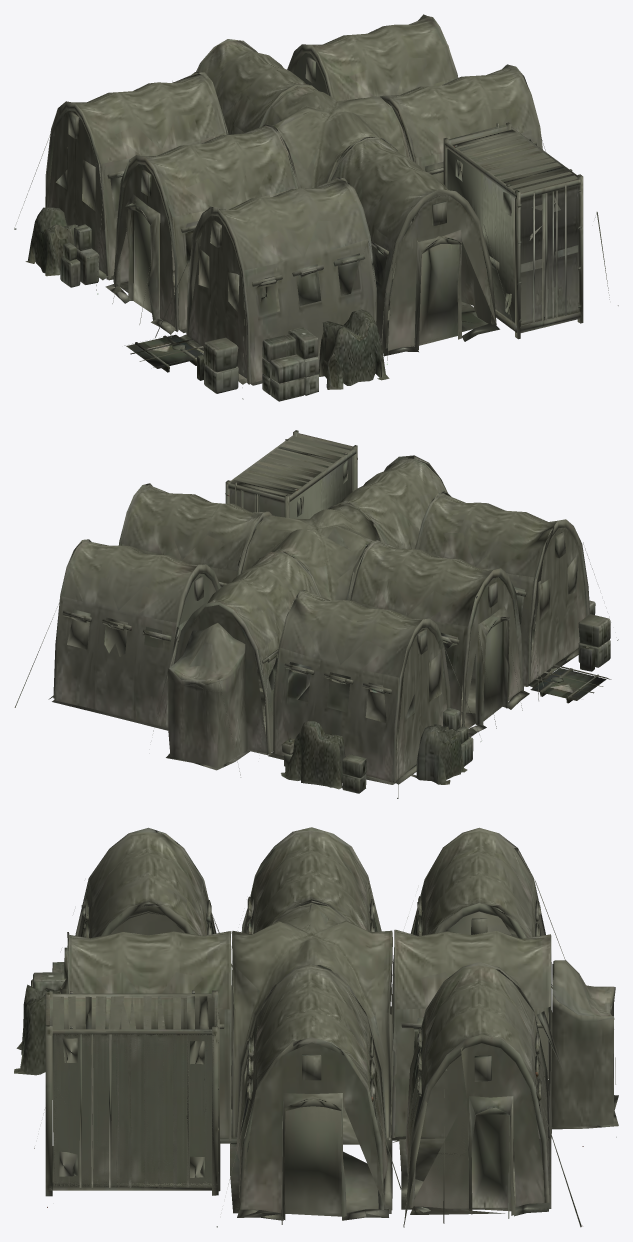
Rendered from hospital.glb.
3 renders of one model, top to bottom at view 1: azimuth 30°, elevation 25°; view 2: azimuth 150°, elevation 25°; view 3: azimuth 270°, elevation 25°, orthographic. The views are drawn at different scales.
Parts seen in each view (by area): view 1: hull; view 2: hull; view 3: hull.
Boxes of the visible parts, box(x1,y1,x2,y2) form: hull: box(14, 14, 618, 401); hull: box(14, 430, 618, 798); hull: box(14, 827, 618, 1227).
Bounding box in the file's own units: 10.8 × 3.88 × 10.76.
3 materials, 3 textured.
